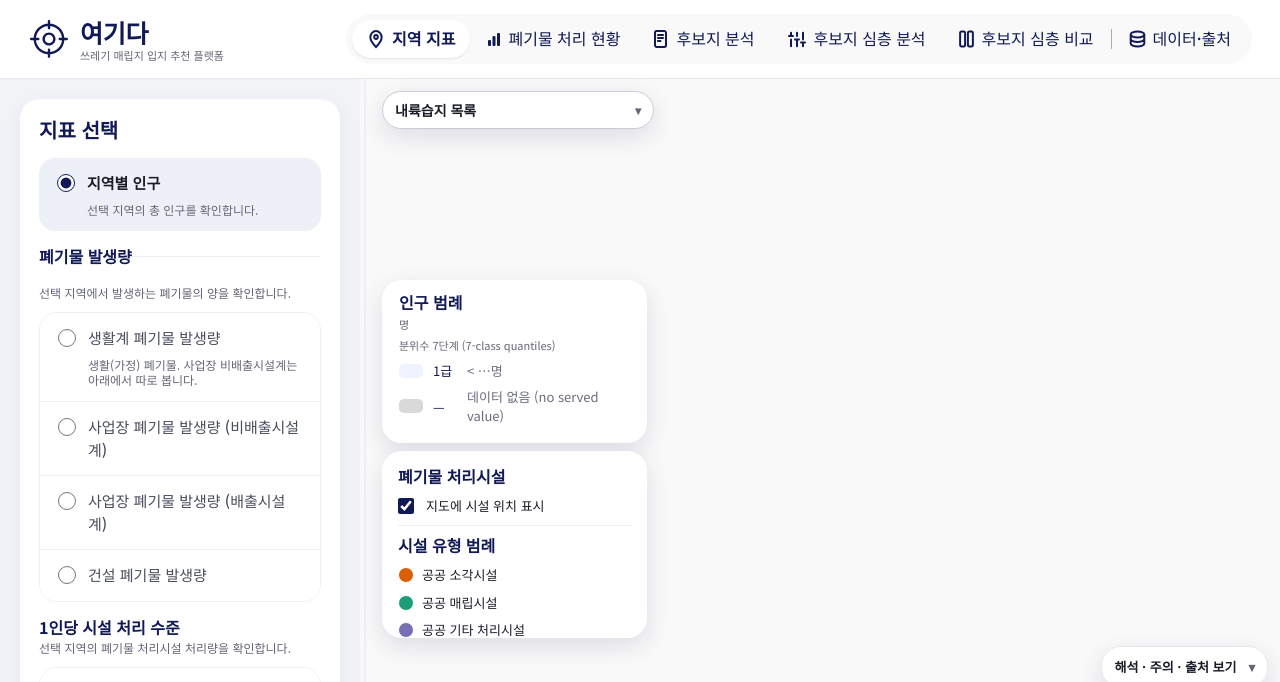
Test case: Phase 0 — revised terminology and status meanings › uses the revised status labels in the candidate counts
What coordinates should you click on to do the following:
click the button with test id "mode-suitability"
I would click on:
 (856, 39)
Its box is x1=772 y1=20 x2=941 y2=58.
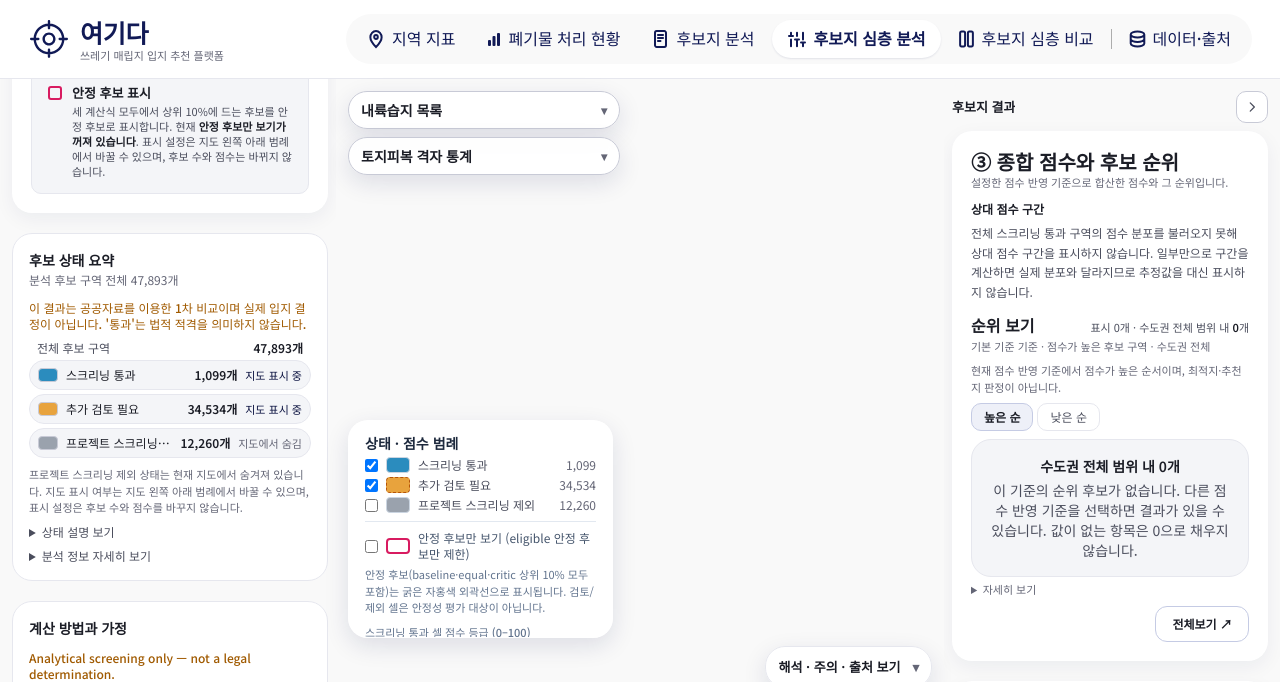
Expected: the element with test id "suitability-summary" is shown, x1=12 y1=233 x2=328 y2=581
Expected: the element with test id "candidate-counts" shows "스크리닝 통과", x1=66 y1=366 x2=136 y2=383
Expected: the element with test id "candidate-counts" shows "추가 검토 필요", x1=66 y1=400 x2=139 y2=417
